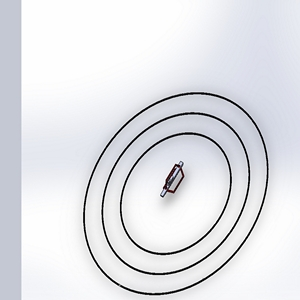circle: (78, 81, 274, 299)
submarine: (156, 157, 192, 204)
